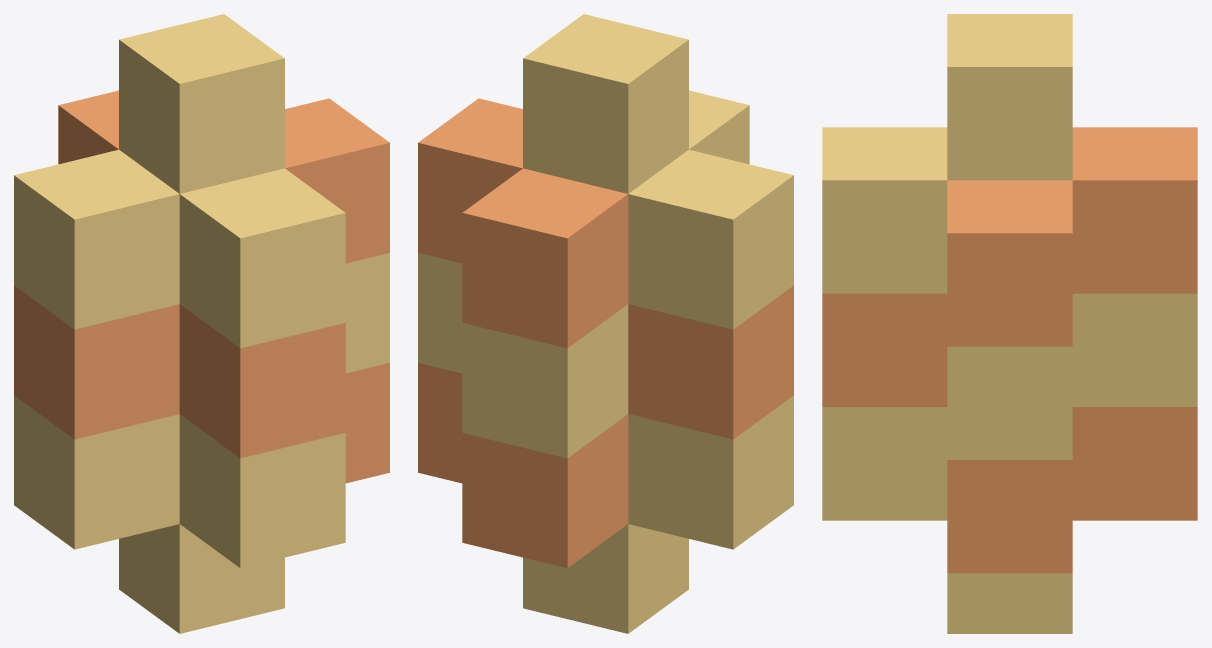
Rendered from Corn.obj.
The picture shows the model from 3 angles, left to right: view 1: azimuth 30°, elevation 25°; view 2: azimuth 150°, elevation 25°; view 3: azimuth 270°, elevation 25°; orthographic projection. The views are drawn at different scales.
Size of the model in its own units: 0.3 by 0.5 by 0.3.
Materials: 1 (1 with a texture image).
